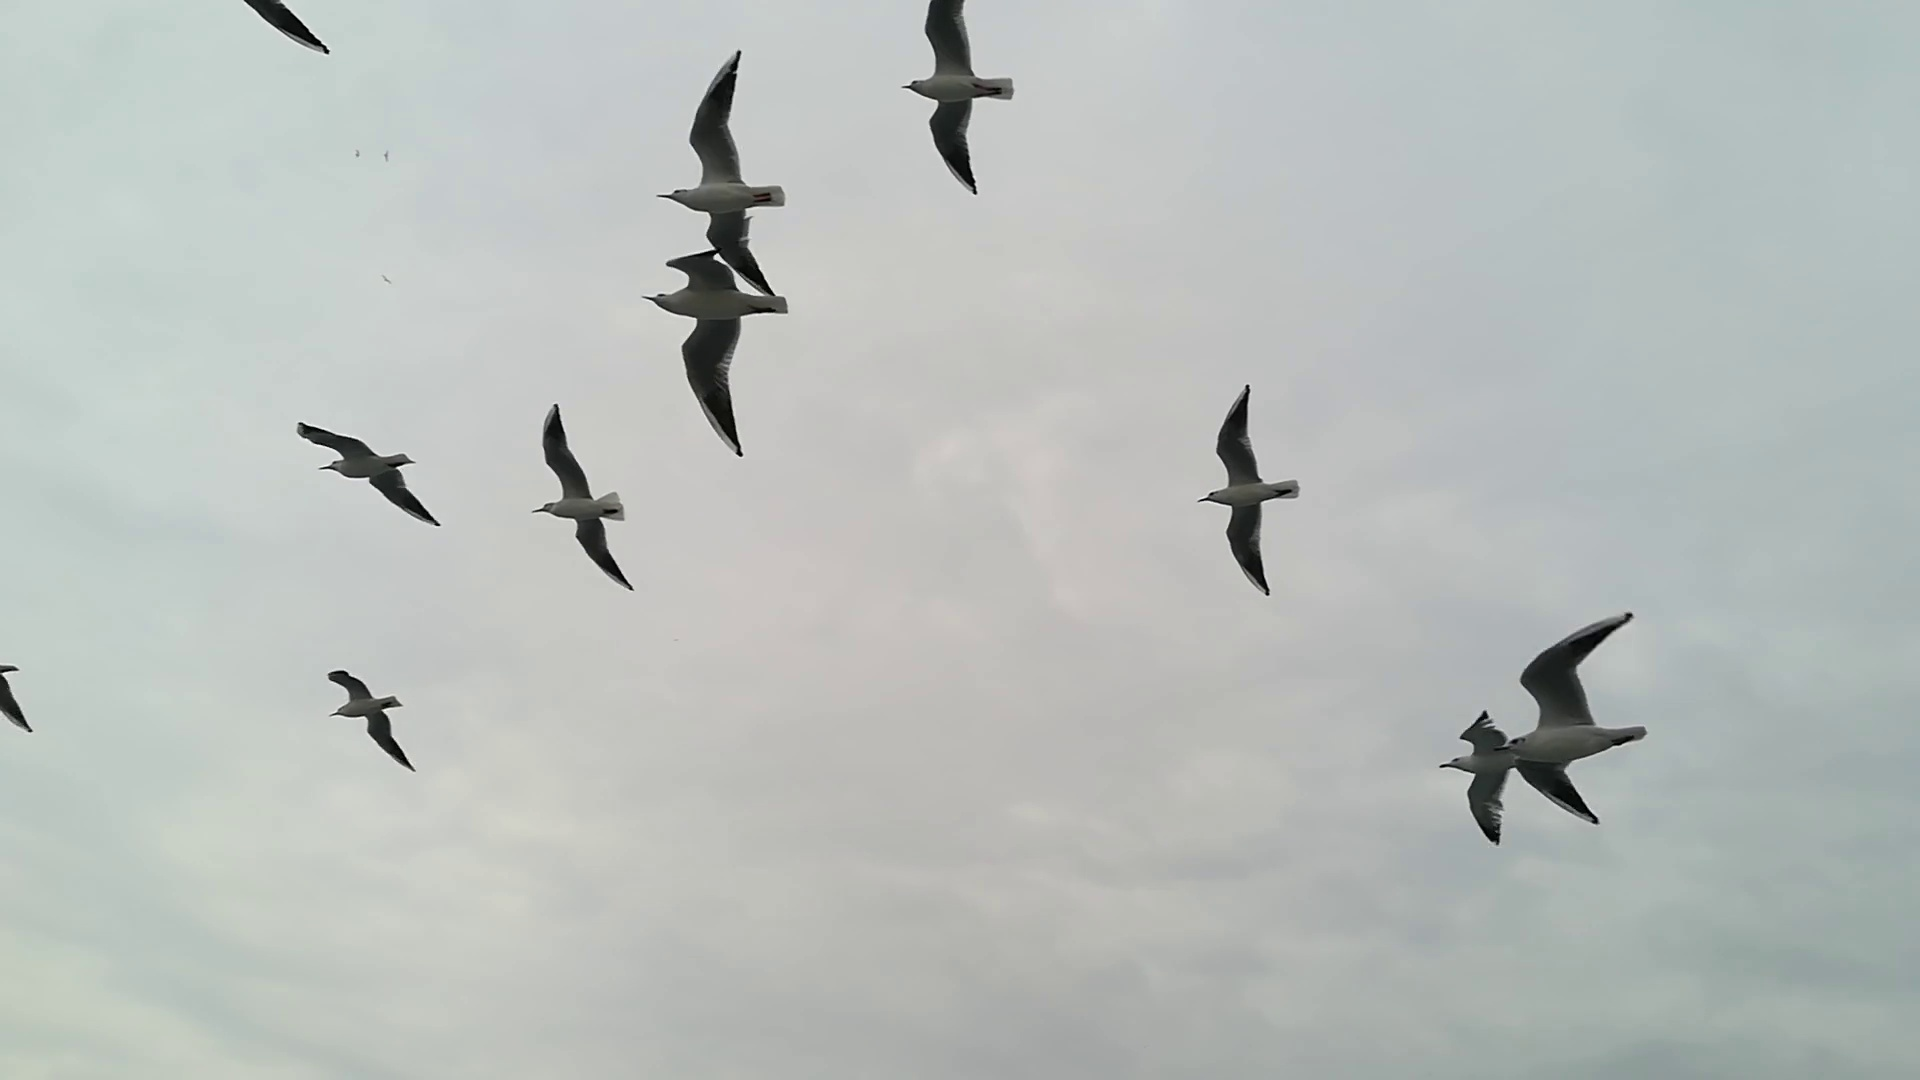bird: (1490, 605, 1643, 827), (640, 245, 789, 456), (659, 47, 785, 297), (901, 1, 1018, 198), (1193, 385, 1302, 597), (529, 397, 640, 593), (297, 417, 442, 527), (1435, 705, 1528, 849), (324, 659, 417, 774)
